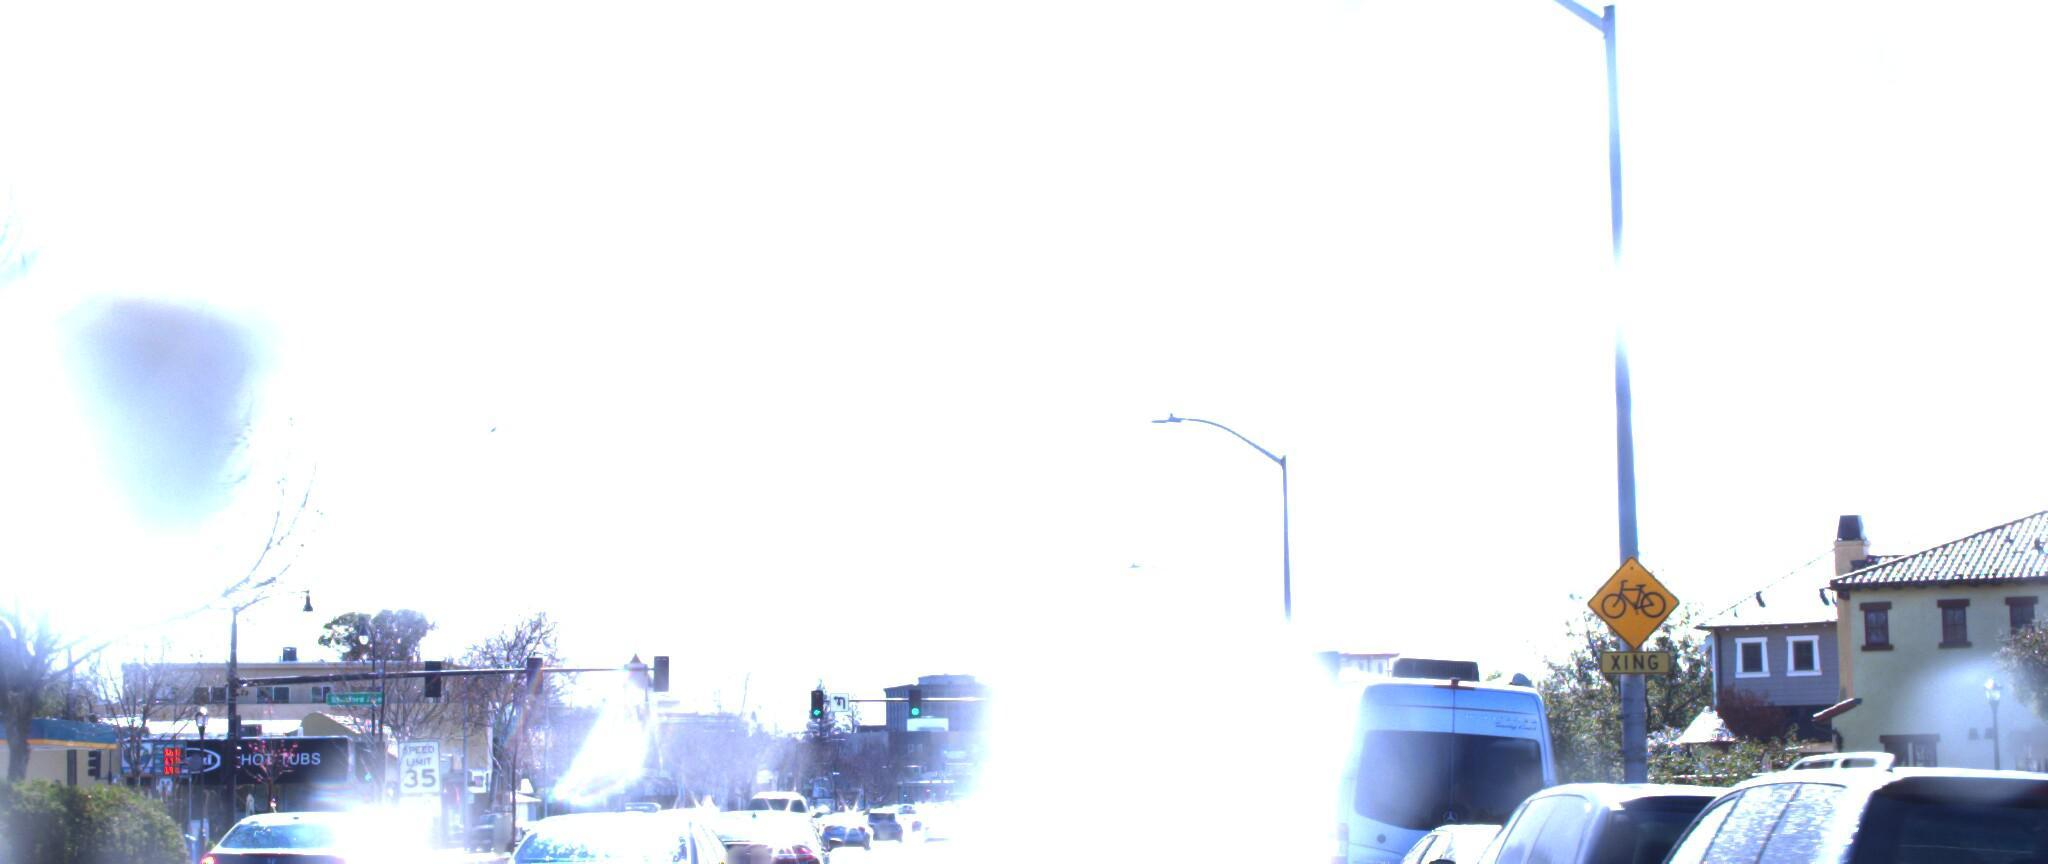car: (1251, 647, 1586, 864), (1512, 741, 2048, 864), (1381, 777, 1949, 864), (1217, 733, 1443, 864), (452, 808, 794, 864), (1185, 762, 1373, 864), (1330, 821, 1723, 864), (182, 808, 430, 864), (656, 799, 831, 864), (1998, 850, 2048, 864)
other_vehicle: (1093, 739, 1208, 864)
